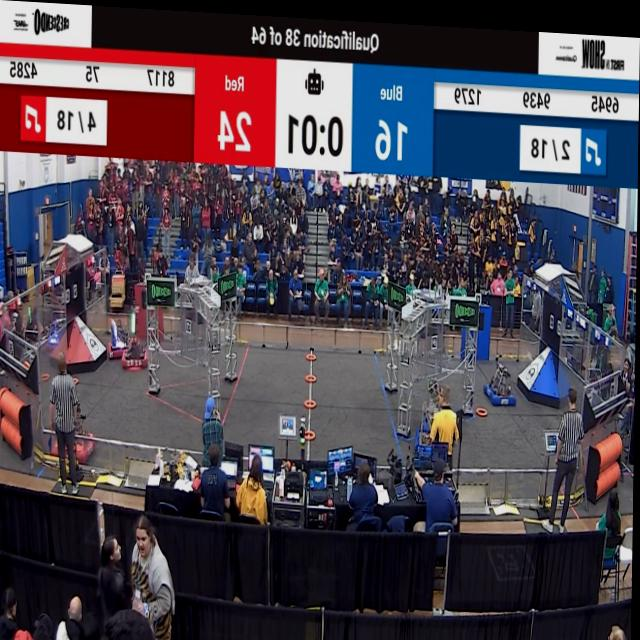Robot: (51, 364, 100, 463), (482, 350, 521, 403), (103, 303, 136, 365), (125, 298, 149, 370), (406, 405, 434, 453), (415, 377, 433, 436)
